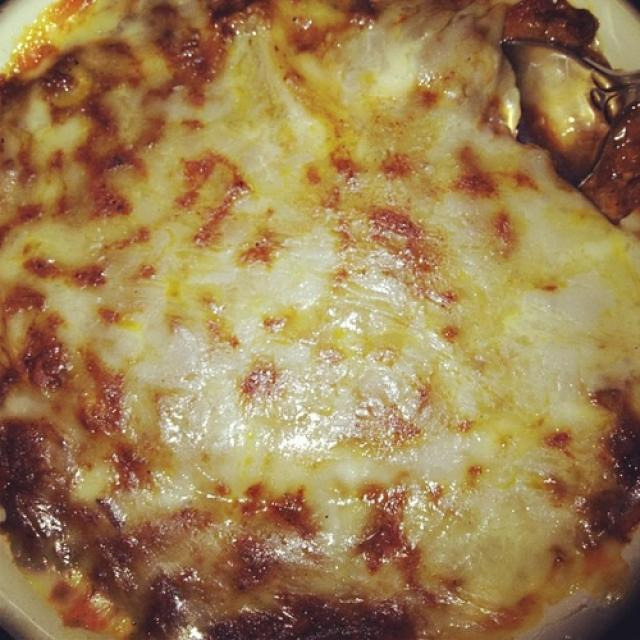米饭主食: (27, 13, 613, 599)
